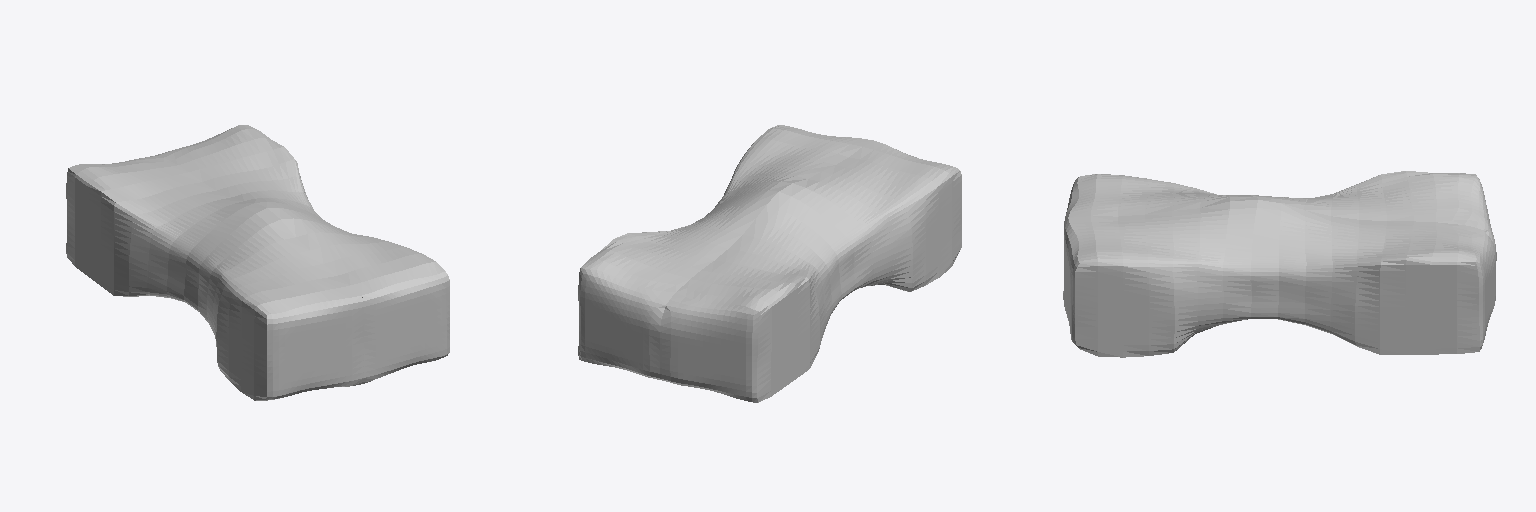
File: Lystcar.obj
3 renders of one model, left to right at view 1: azimuth 30°, elevation 25°; view 2: azimuth 150°, elevation 25°; view 3: azimuth 270°, elevation 25°, orthographic.
Parts seen in each view (by area): view 1: Cube; view 2: Cube; view 3: Cube.
Boxes of the visible parts, <box> form: Cube: <box>66,125,449,400</box>; Cube: <box>578,125,961,402</box>; Cube: <box>1063,171,1496,357</box>.
Size of the model in its own units: 4.3 by 2.48 by 8.65.